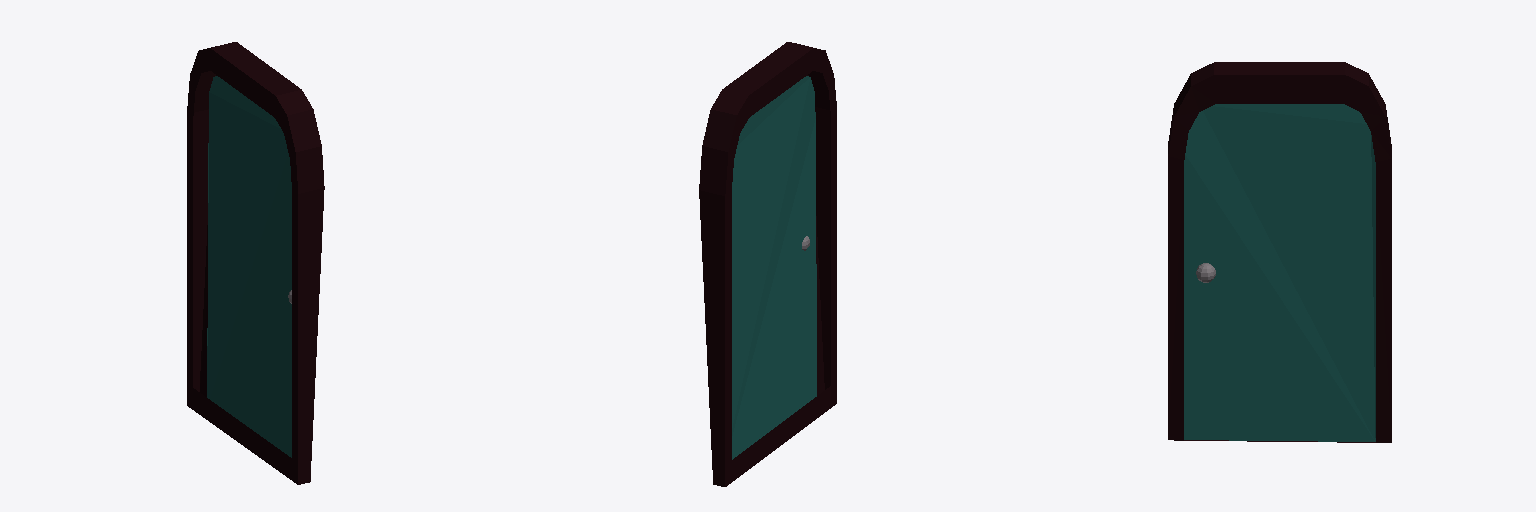
The model's file is door3.obj.
3 renders of one model, left to right at view 1: azimuth 30°, elevation 25°; view 2: azimuth 150°, elevation 25°; view 3: azimuth 270°, elevation 25°, orthographic.
Parts seen in each view (by area): view 1: door, doorframe; view 2: door, doorframe; view 3: door, doorframe.
Boxes of the visible parts, x1,y1,x2,y2 form: door: [207, 76, 291, 457]; doorframe: [187, 42, 324, 484]; door: [732, 76, 816, 459]; doorframe: [699, 42, 836, 486]; door: [1184, 104, 1375, 441]; doorframe: [1168, 62, 1391, 442].
Size of the model in its own units: 0.0594 by 0.7837 by 0.4239.